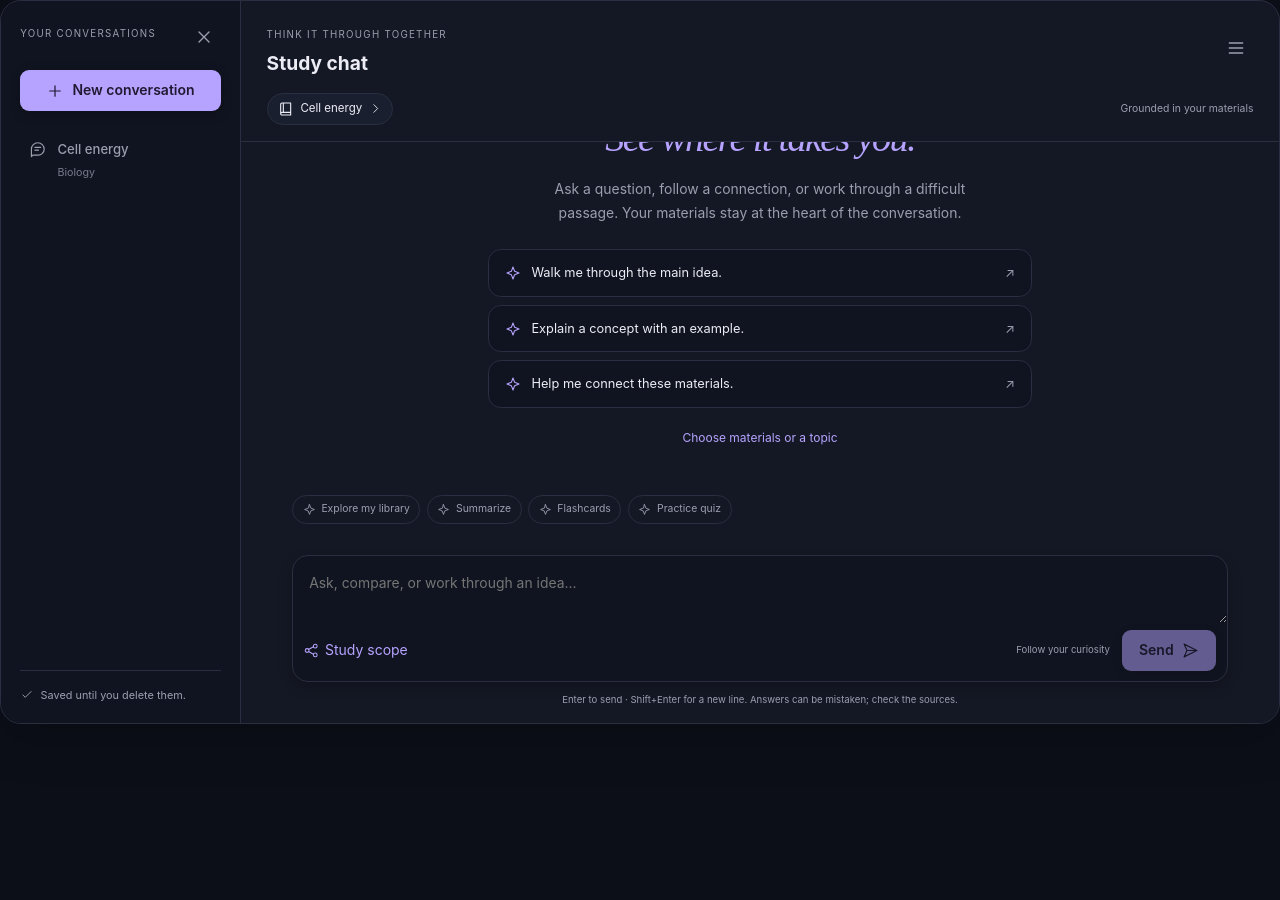
Complete study-chat interface › creates a scoped conversation and displays streamed and finalized replies
This screenshot has width=1280, height=900.
(page scrolled)
Type "What supplies ATP?" into the text box named "Message Classmate".
click(760, 590); type("What supplies ATP?")  # box left=293, top=556, right=1227, bottom=623
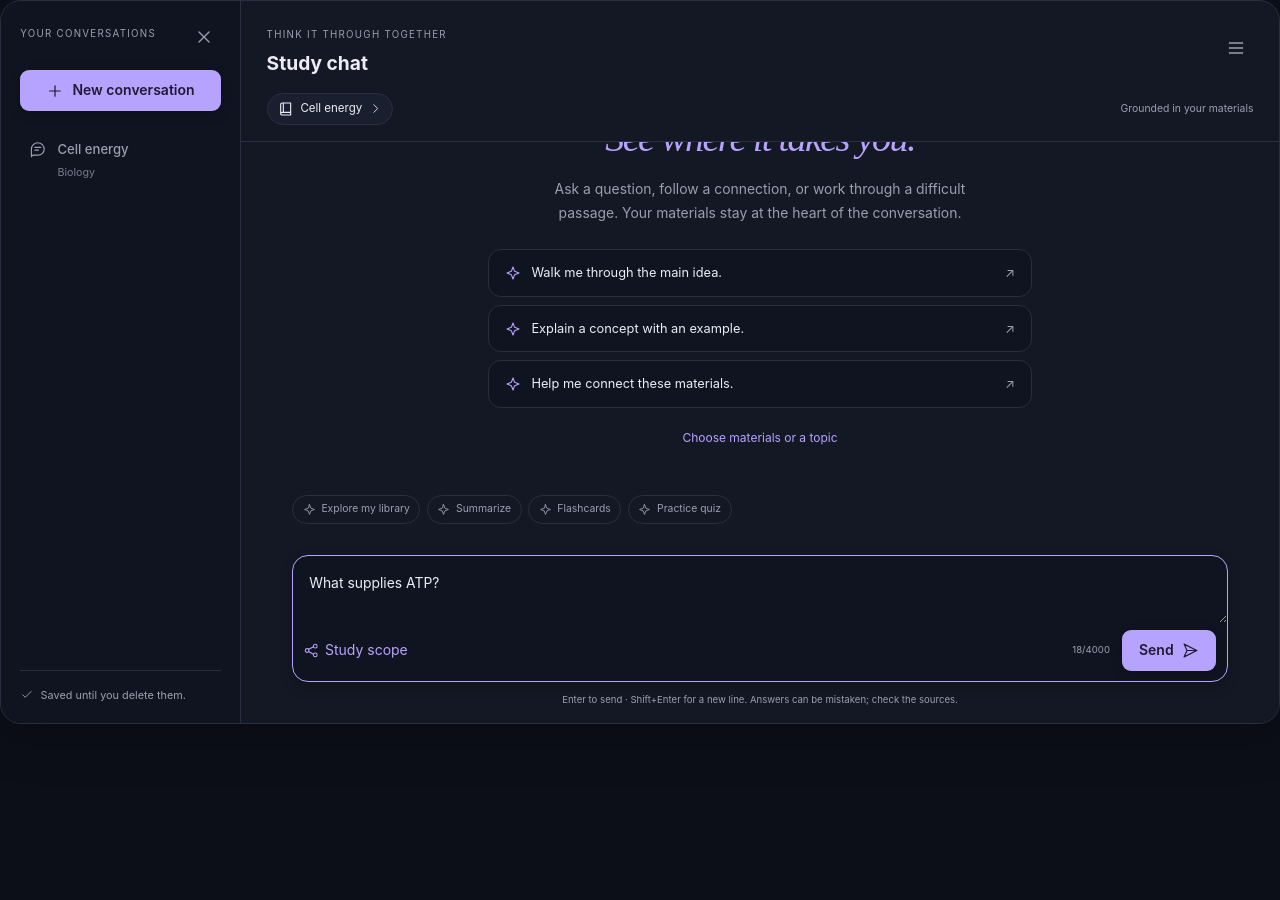
Click the button "Send".
click(1169, 650)  # box left=1122, top=630, right=1216, bottom=671
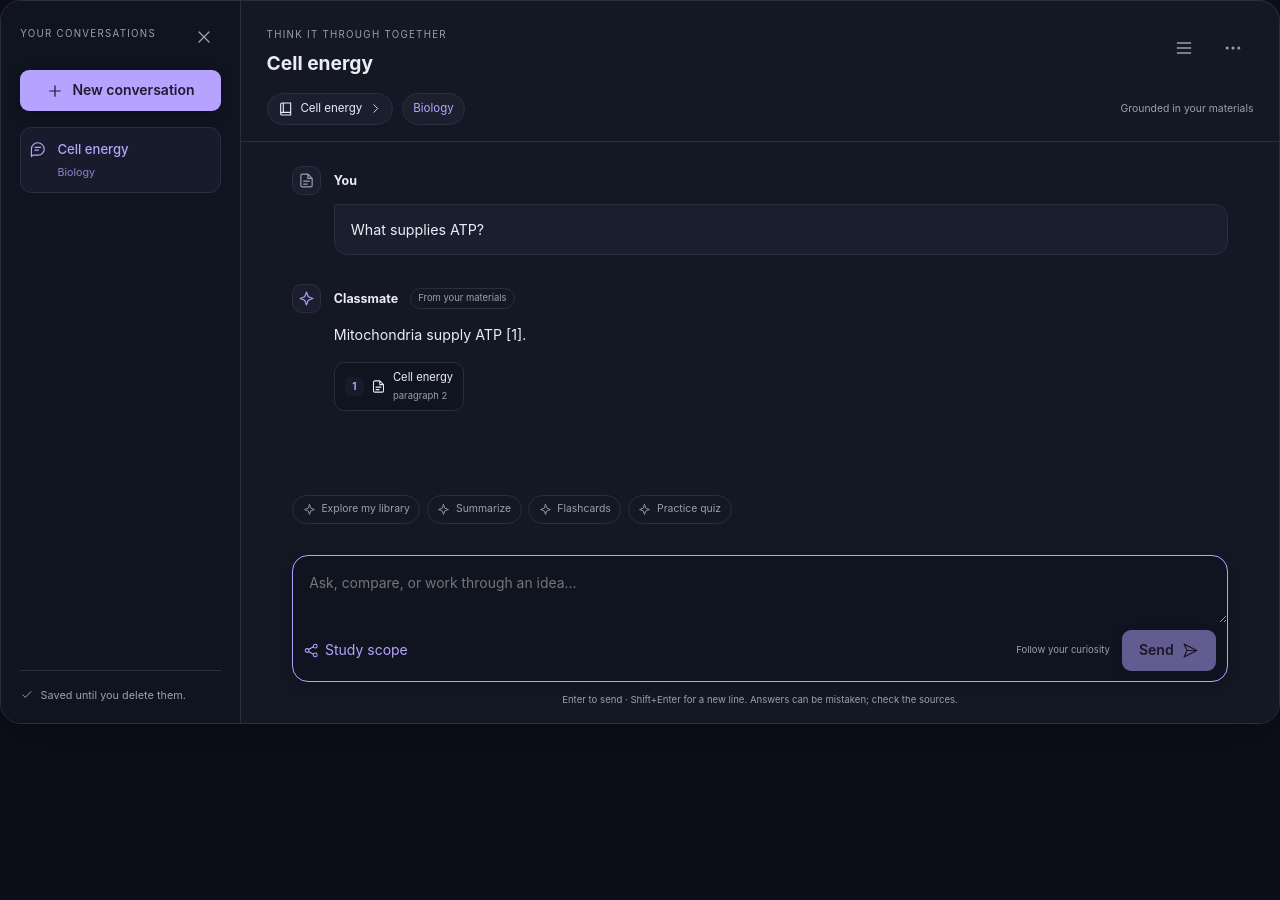
Result: the text "Mitochondria supply ATP [1]." is shown at left=334, top=326, right=526, bottom=343
